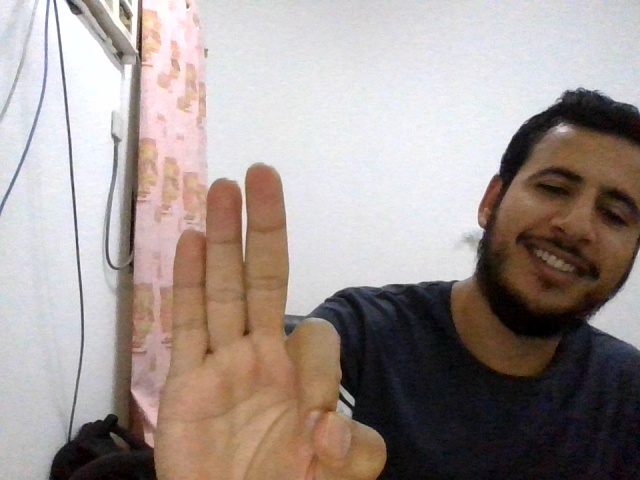Three: (155, 162, 389, 480)
